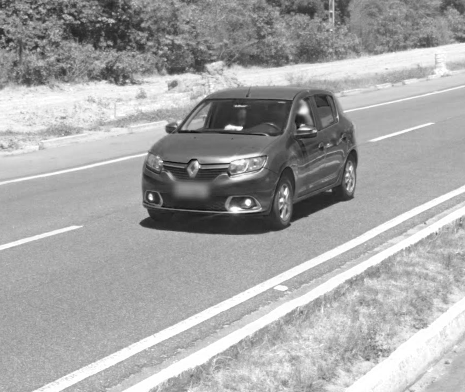car: (139, 82, 360, 235)
